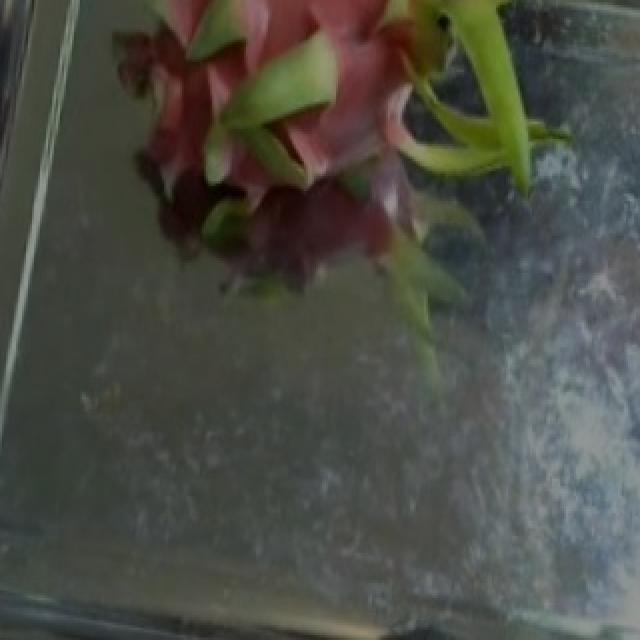fruit: (140, 0, 592, 382)
